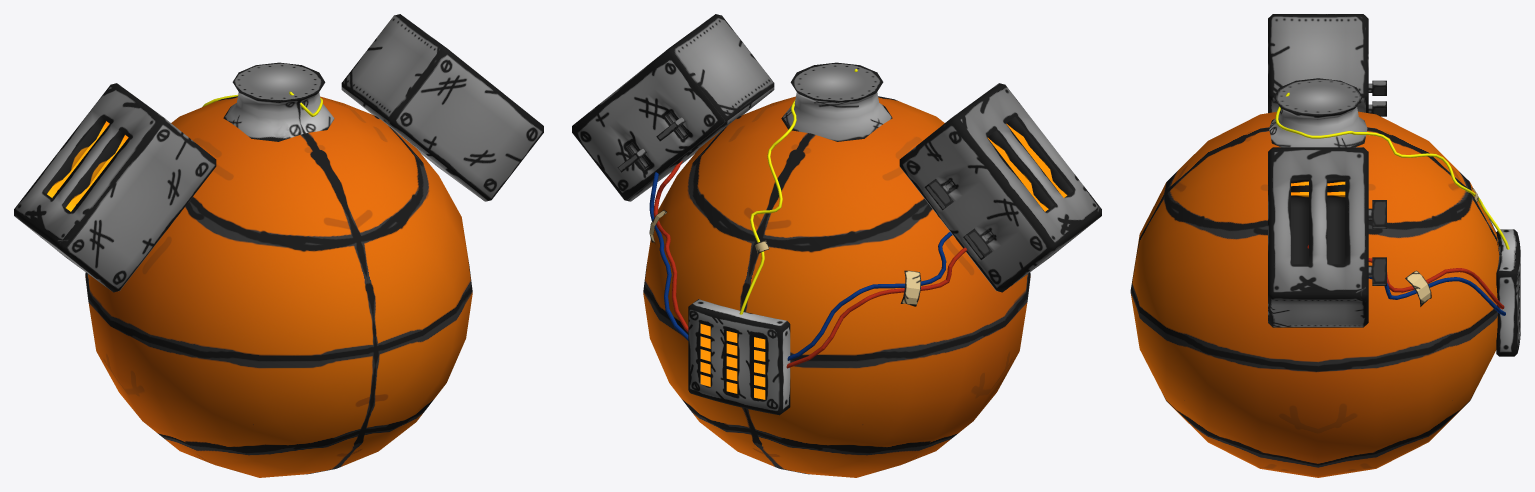
The model's file is BasketBallBody.FBX.
The picture shows the model from 3 angles, left to right: view 1: azimuth 30°, elevation 25°; view 2: azimuth 150°, elevation 25°; view 3: azimuth 270°, elevation 25°; orthographic projection. The views are drawn at different scales.
Parts seen in each view (by area): view 1: BasketBallBody; view 2: BasketBallBody; view 3: BasketBallBody.
Boxes of the visible parts, <box> form: BasketBallBody: <box>14,14,543,477</box>; BasketBallBody: <box>572,14,1101,477</box>; BasketBallBody: <box>1130,14,1520,477</box>.
Size of the model in its own units: 180 by 141 by 131.
